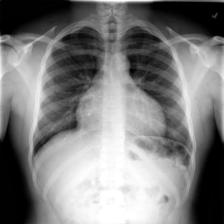normal: (27, 19, 196, 178)
